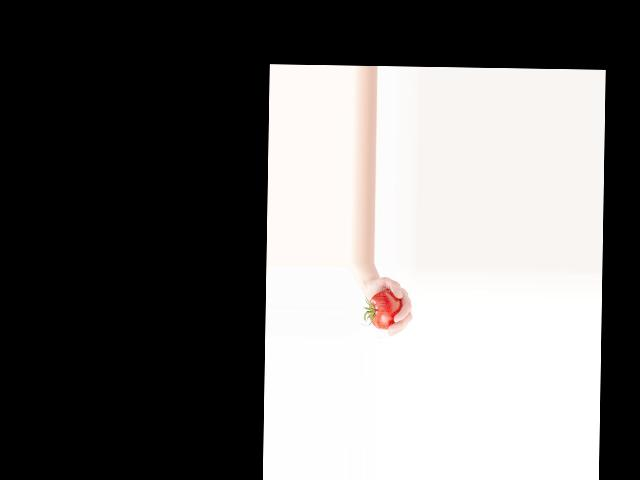tomato: (368, 291, 402, 329)
